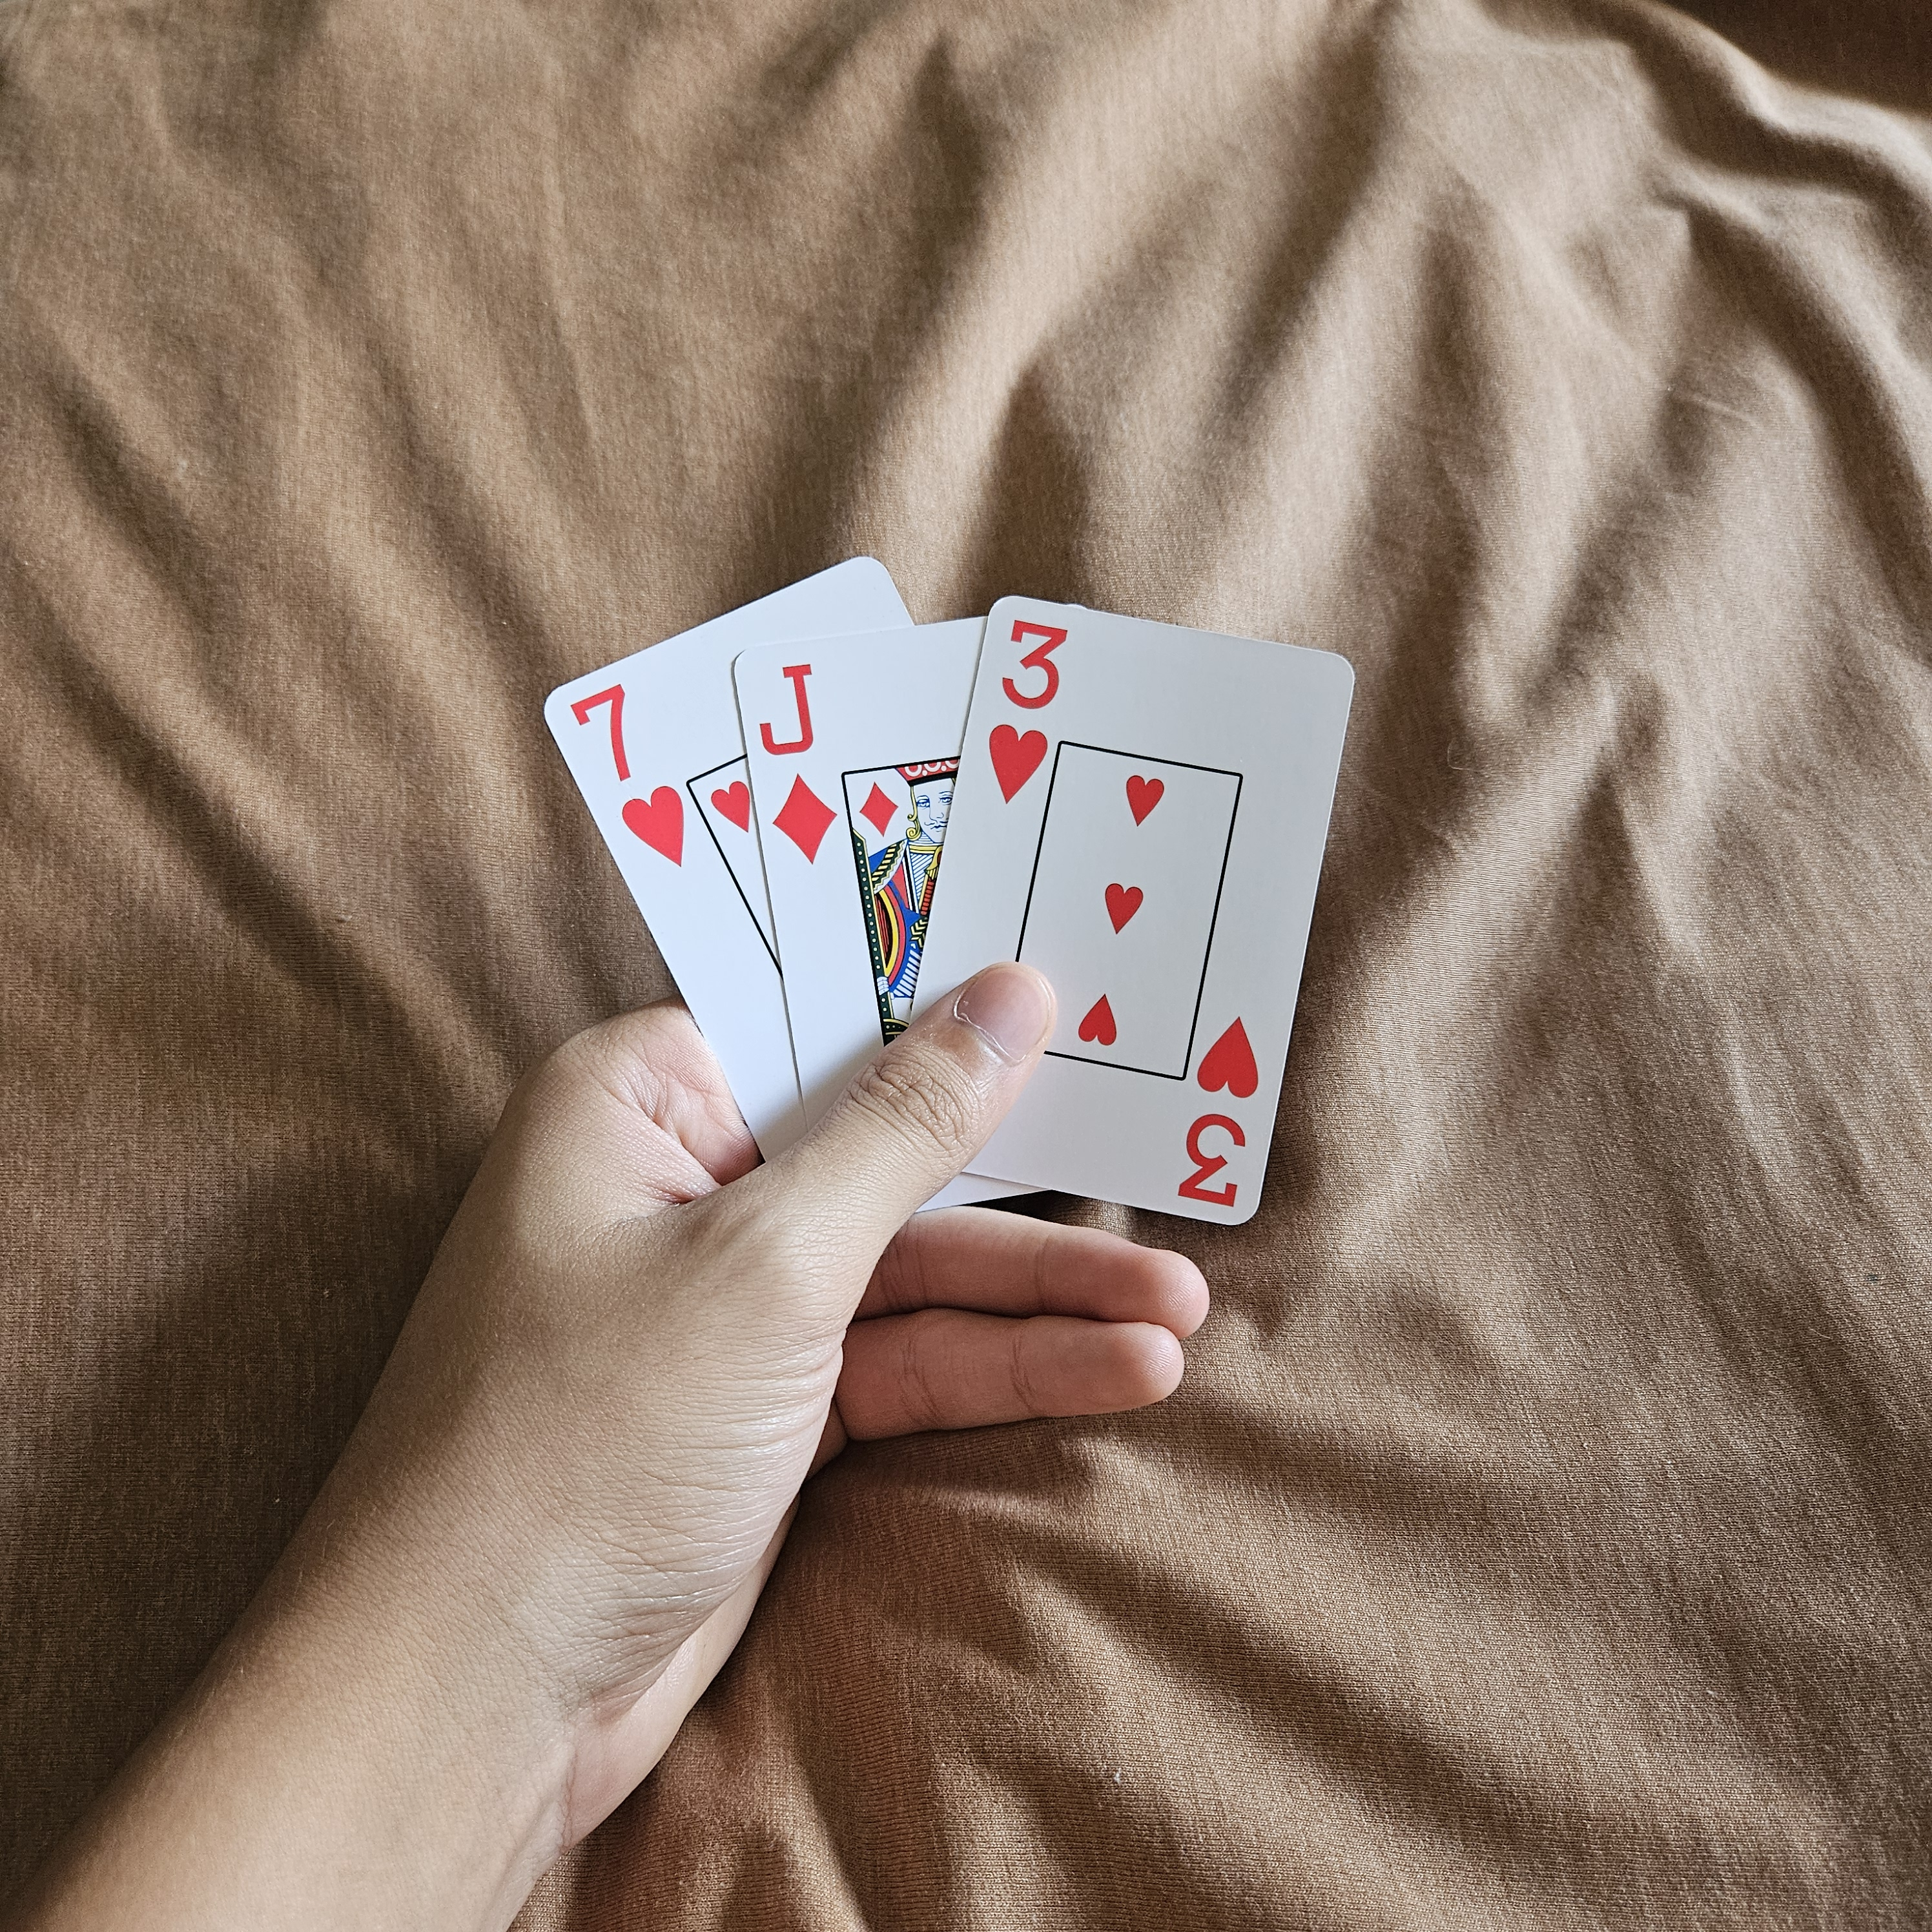3C: (1162, 1007, 1276, 1223), (973, 598, 1076, 817)
7C: (561, 669, 699, 876)
JO: (741, 651, 847, 870)
